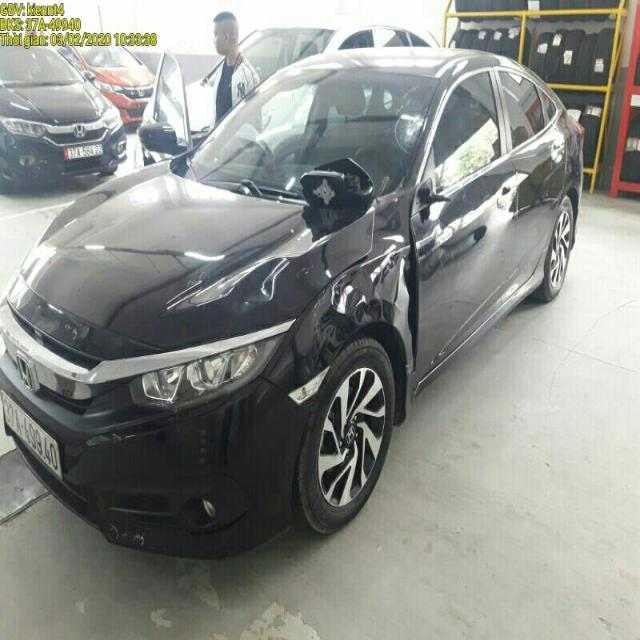Cabossage: (307, 274, 381, 369), (214, 261, 306, 326), (378, 227, 418, 370)
Fissure: (391, 111, 428, 164)
